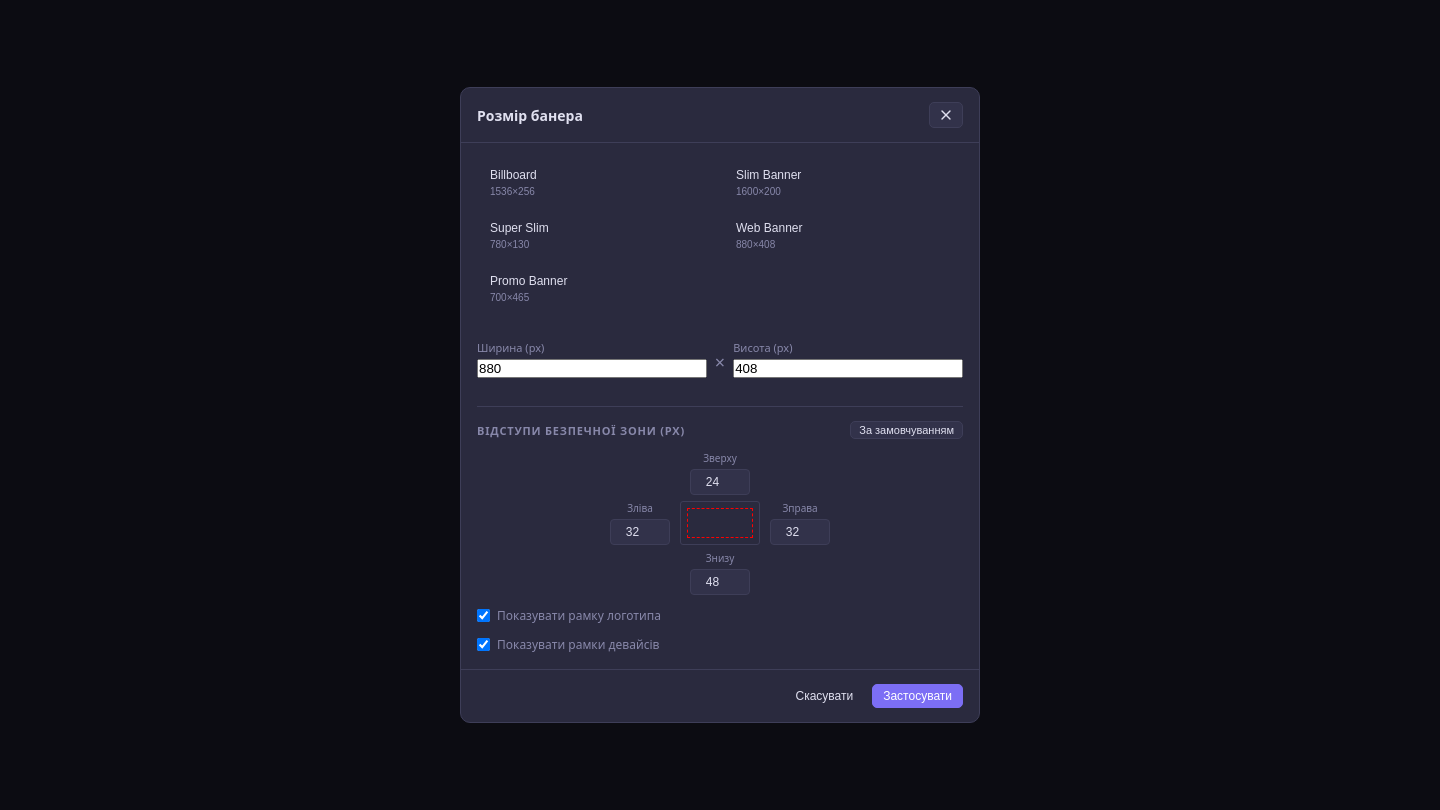
it: SizeModal — presets › clicking Promo Banner sets width and height inputs to 700×465
The image size is (1440, 810).
Click the text "Promo Banner" at (529, 281), box [490, 274, 567, 288]
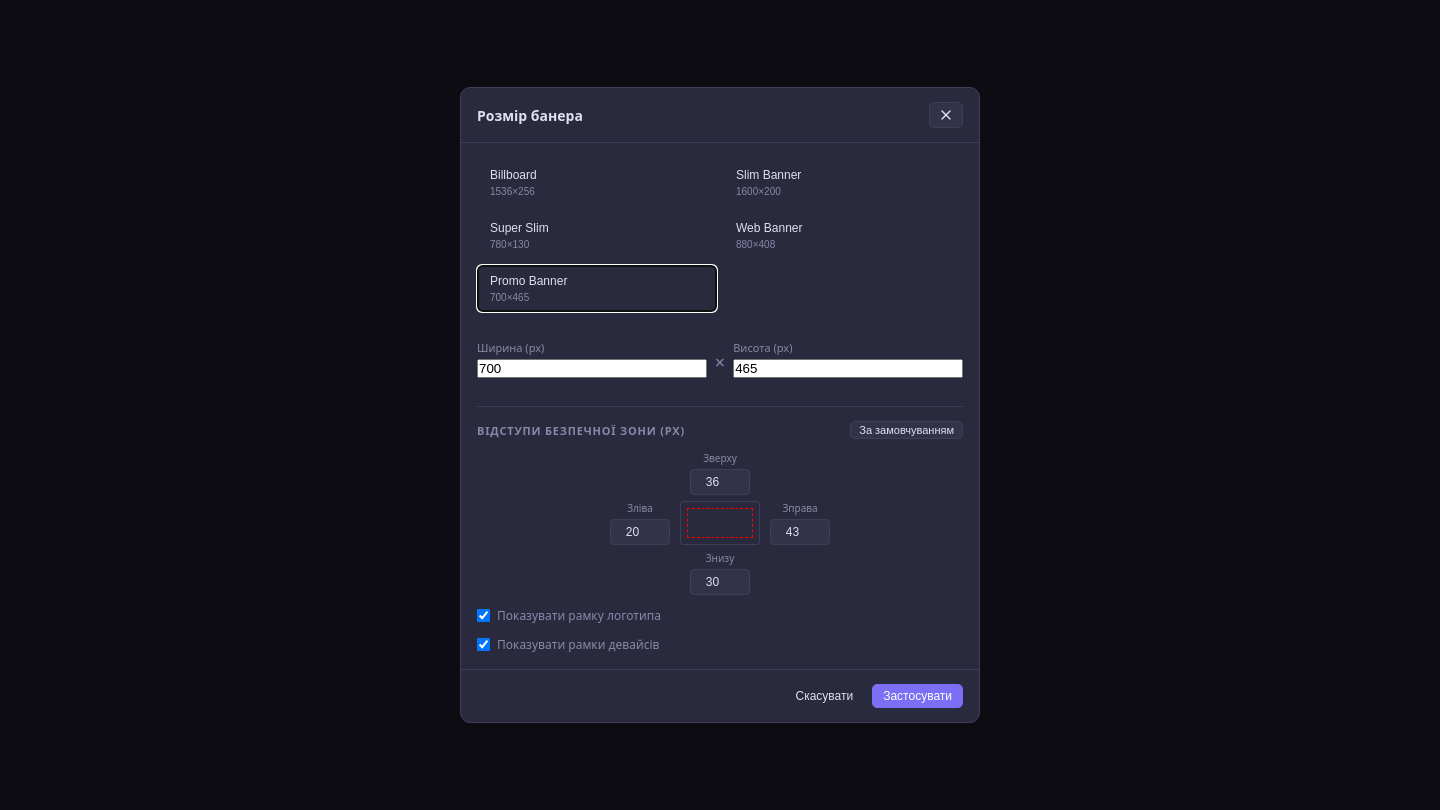
expect the number field labelled "Ширина (px)" holds "700": met, box [477, 359, 707, 378]
expect the number field labelled "Висота (px)" holds "465": met, box [733, 359, 963, 378]
